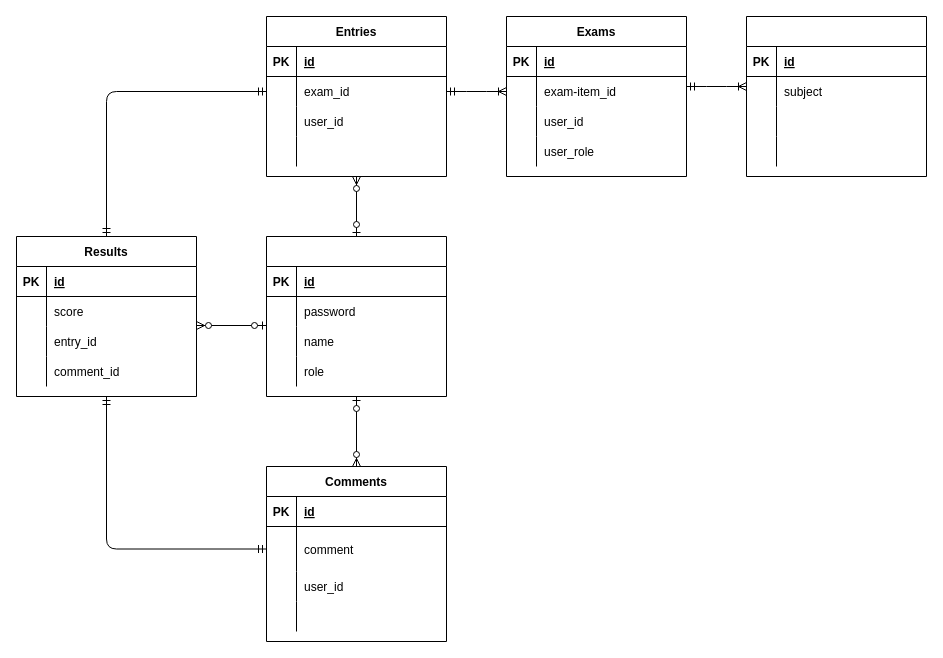
This 943x658 diagram has some shape labels left out. The shapes that lost their labels are listed below. From the top down, each one's box as (x1, y1, x2, y2) in pixels, then its label:
(746, 16, 926, 176): Exam-items
(266, 236, 446, 396): Users
